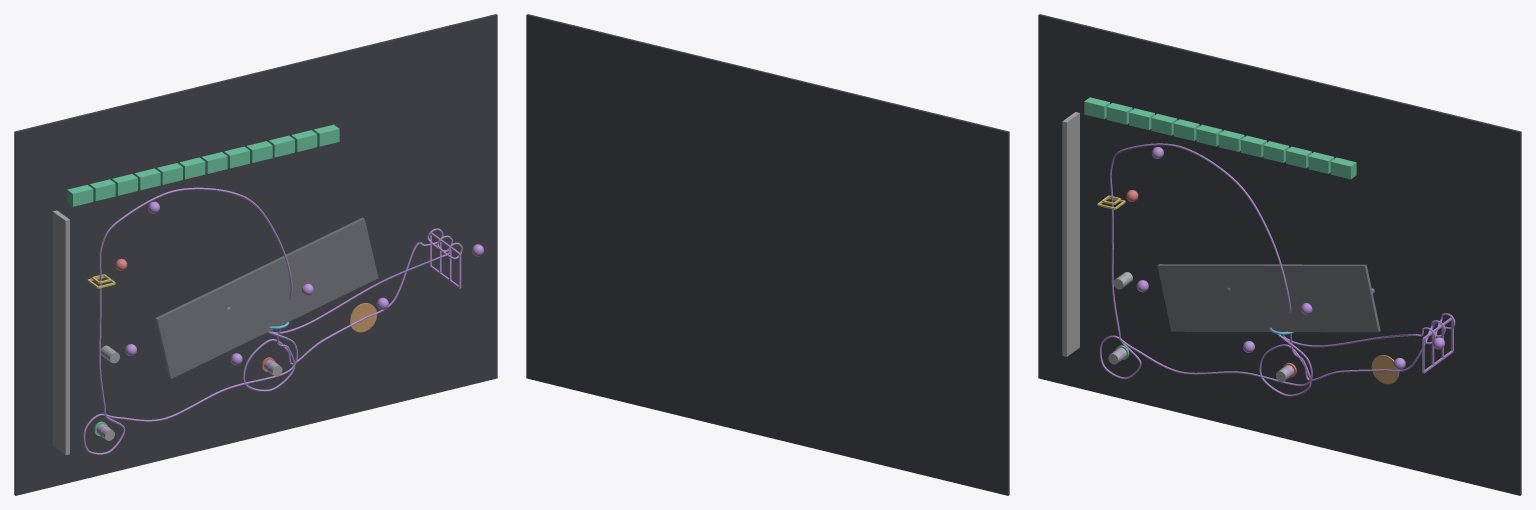
File: track3.glb
The picture shows the model from 3 angles, left to right: view 1: azimuth 30°, elevation 25°; view 2: azimuth 150°, elevation 25°; view 3: azimuth 330°, elevation 25°; orthographic projection.
Parts seen in each view (by area): view 1: world; view 2: world; view 3: world.
Part boxes in pixels (x1,y1,x2,y2): world: [14, 14, 497, 495]; world: [526, 14, 1009, 495]; world: [1038, 14, 1521, 495].
Size of the model in its own units: 86 by 62 by 10.9.
